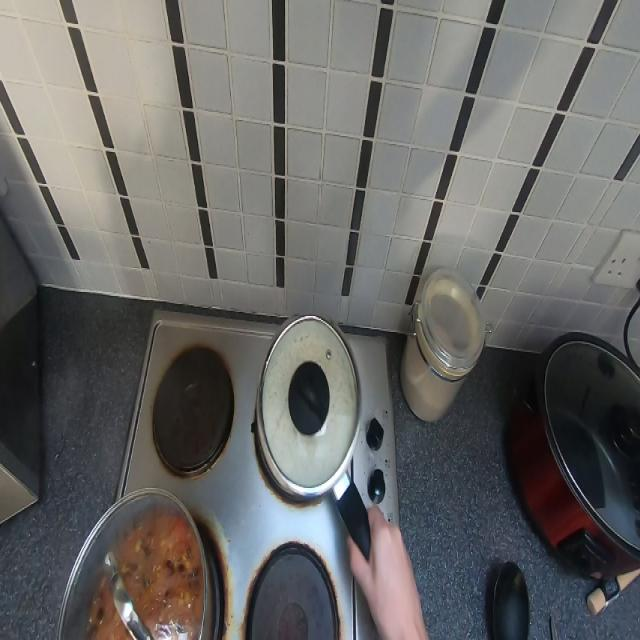hob: (130, 309, 246, 499)
jar: (401, 261, 493, 440)
lid: (55, 492, 214, 640)
pan: (255, 309, 377, 572)
right hand: (350, 502, 429, 640)
